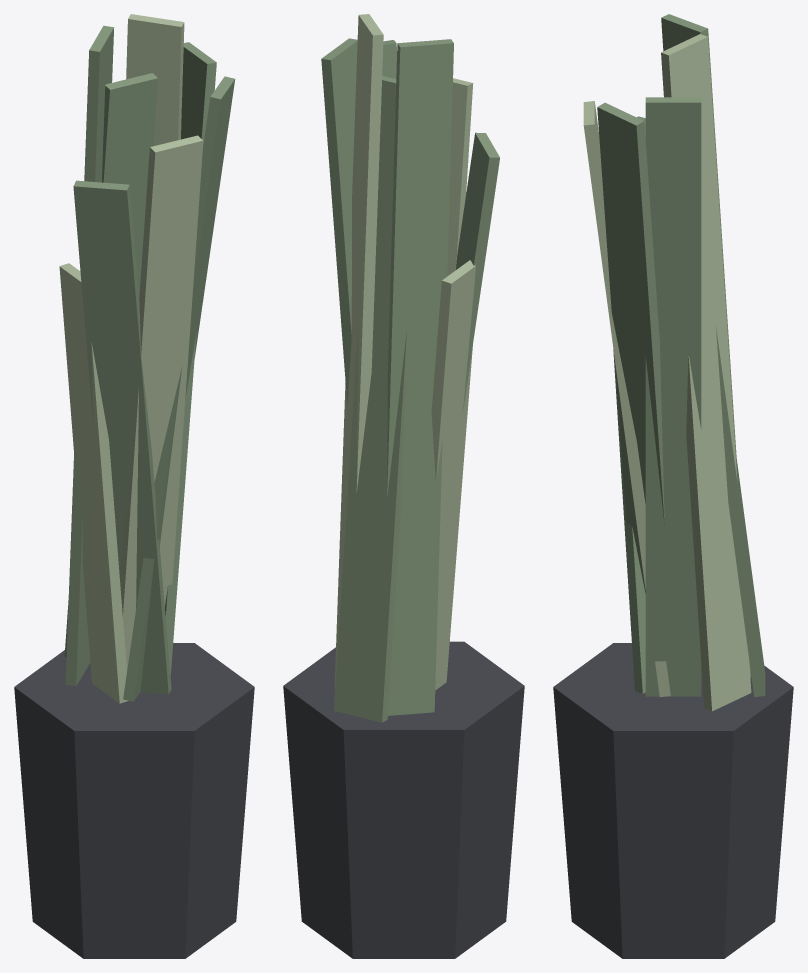
File: plant_snake.glb
The picture shows the model from 3 angles, left to right: view 1: azimuth 30°, elevation 25°; view 2: azimuth 150°, elevation 25°; view 3: azimuth 270°, elevation 25°; orthographic projection.
Parts seen in each view (by area): view 1: plant_snake; view 2: plant_snake; view 3: plant_snake.
Part boxes in pixels (<box>): plant_snake: <box>14,14,254,958</box>; plant_snake: <box>283,14,524,958</box>; plant_snake: <box>553,14,793,958</box>.
Size of the model in its own units: 0.2252 by 1.06 by 0.26.
